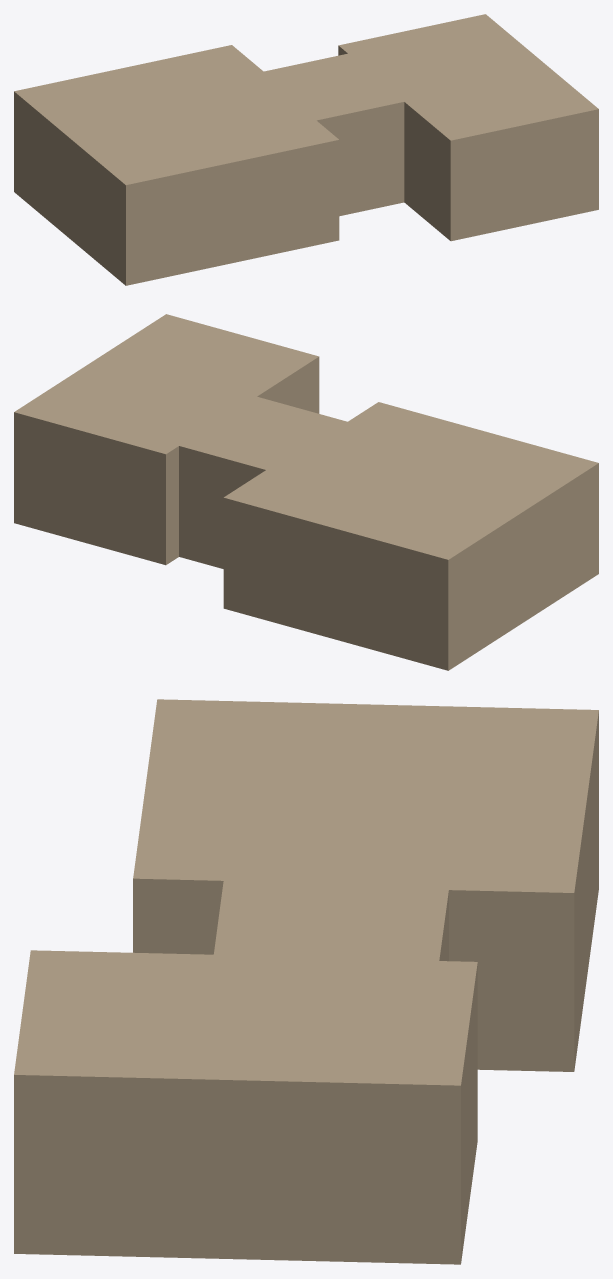
File: bld_48828471.dae
The picture shows the model from 3 angles, top to bottom: view 1: azimuth 30°, elevation 25°; view 2: azimuth 150°, elevation 25°; view 3: azimuth 270°, elevation 25°; orthographic projection. The views are drawn at different scales.
Parts seen in each view (by area): view 1: The Friary; view 2: The Friary; view 3: The Friary.
Part boxes in pixels (x1,y1,x2,y2): The Friary: (14, 14, 598, 285); The Friary: (14, 314, 598, 670); The Friary: (14, 699, 598, 1264).
Bounding box in the file's own units: 37.03 × 23.69 × 8.
